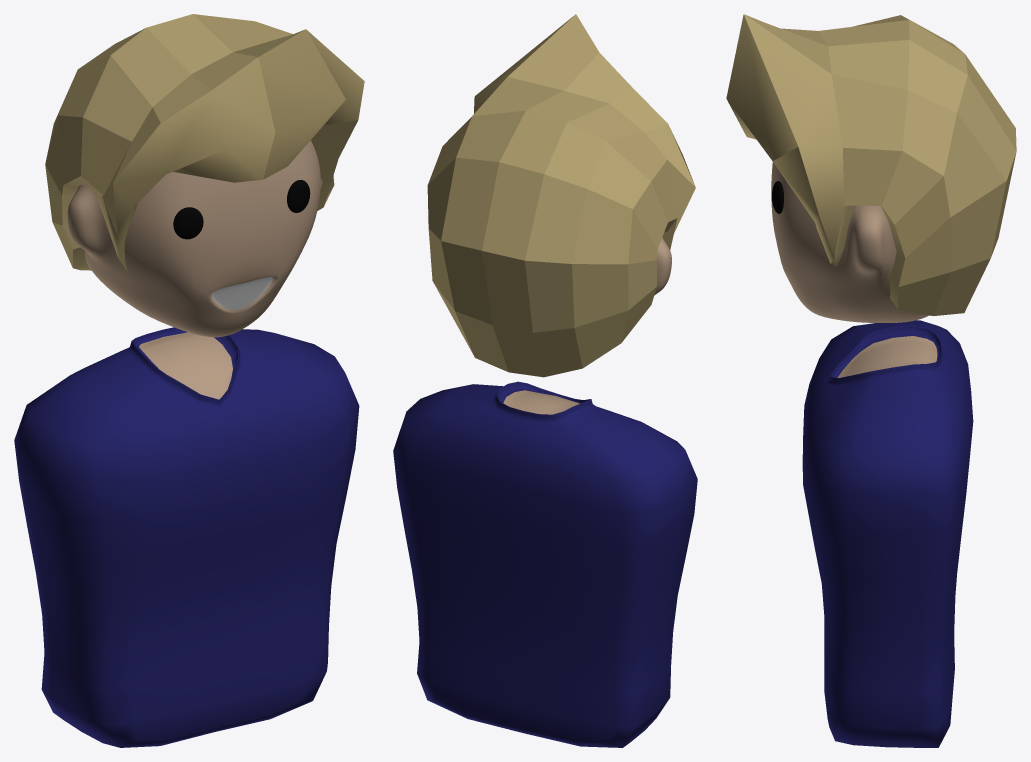
The picture shows the model from 3 angles, left to right: view 1: azimuth 30°, elevation 25°; view 2: azimuth 150°, elevation 25°; view 3: azimuth 270°, elevation 25°; orthographic projection. The views are drawn at different scales.
Visible parts, largest first — view 1: Body, Head; view 2: Body, Head; view 3: Head, Body.
Boxes of the visible parts, x1=… form: Body: x1=14, y1=327, x2=359, y2=747; Head: x1=45, y1=14, x2=364, y2=337; Body: x1=393, y1=381, x2=697, y2=747; Head: x1=427, y1=14, x2=695, y2=377; Head: x1=726, y1=14, x2=1016, y2=322; Body: x1=802, y1=320, x2=973, y2=747.
Size of the model in its own units: 38.65 by 86.58 by 32.07.
